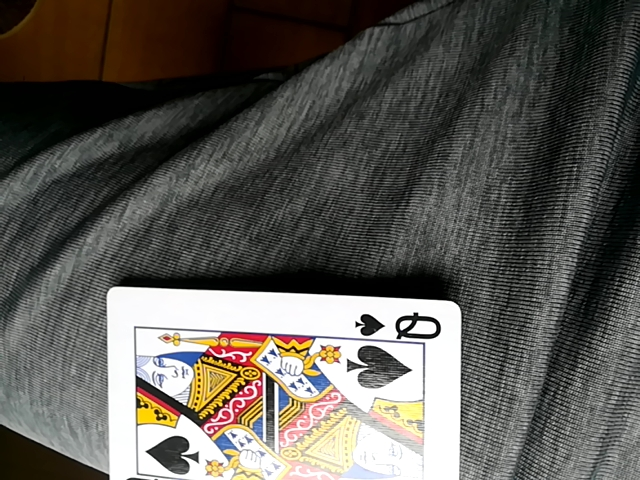ht q: (109, 287, 464, 479)
